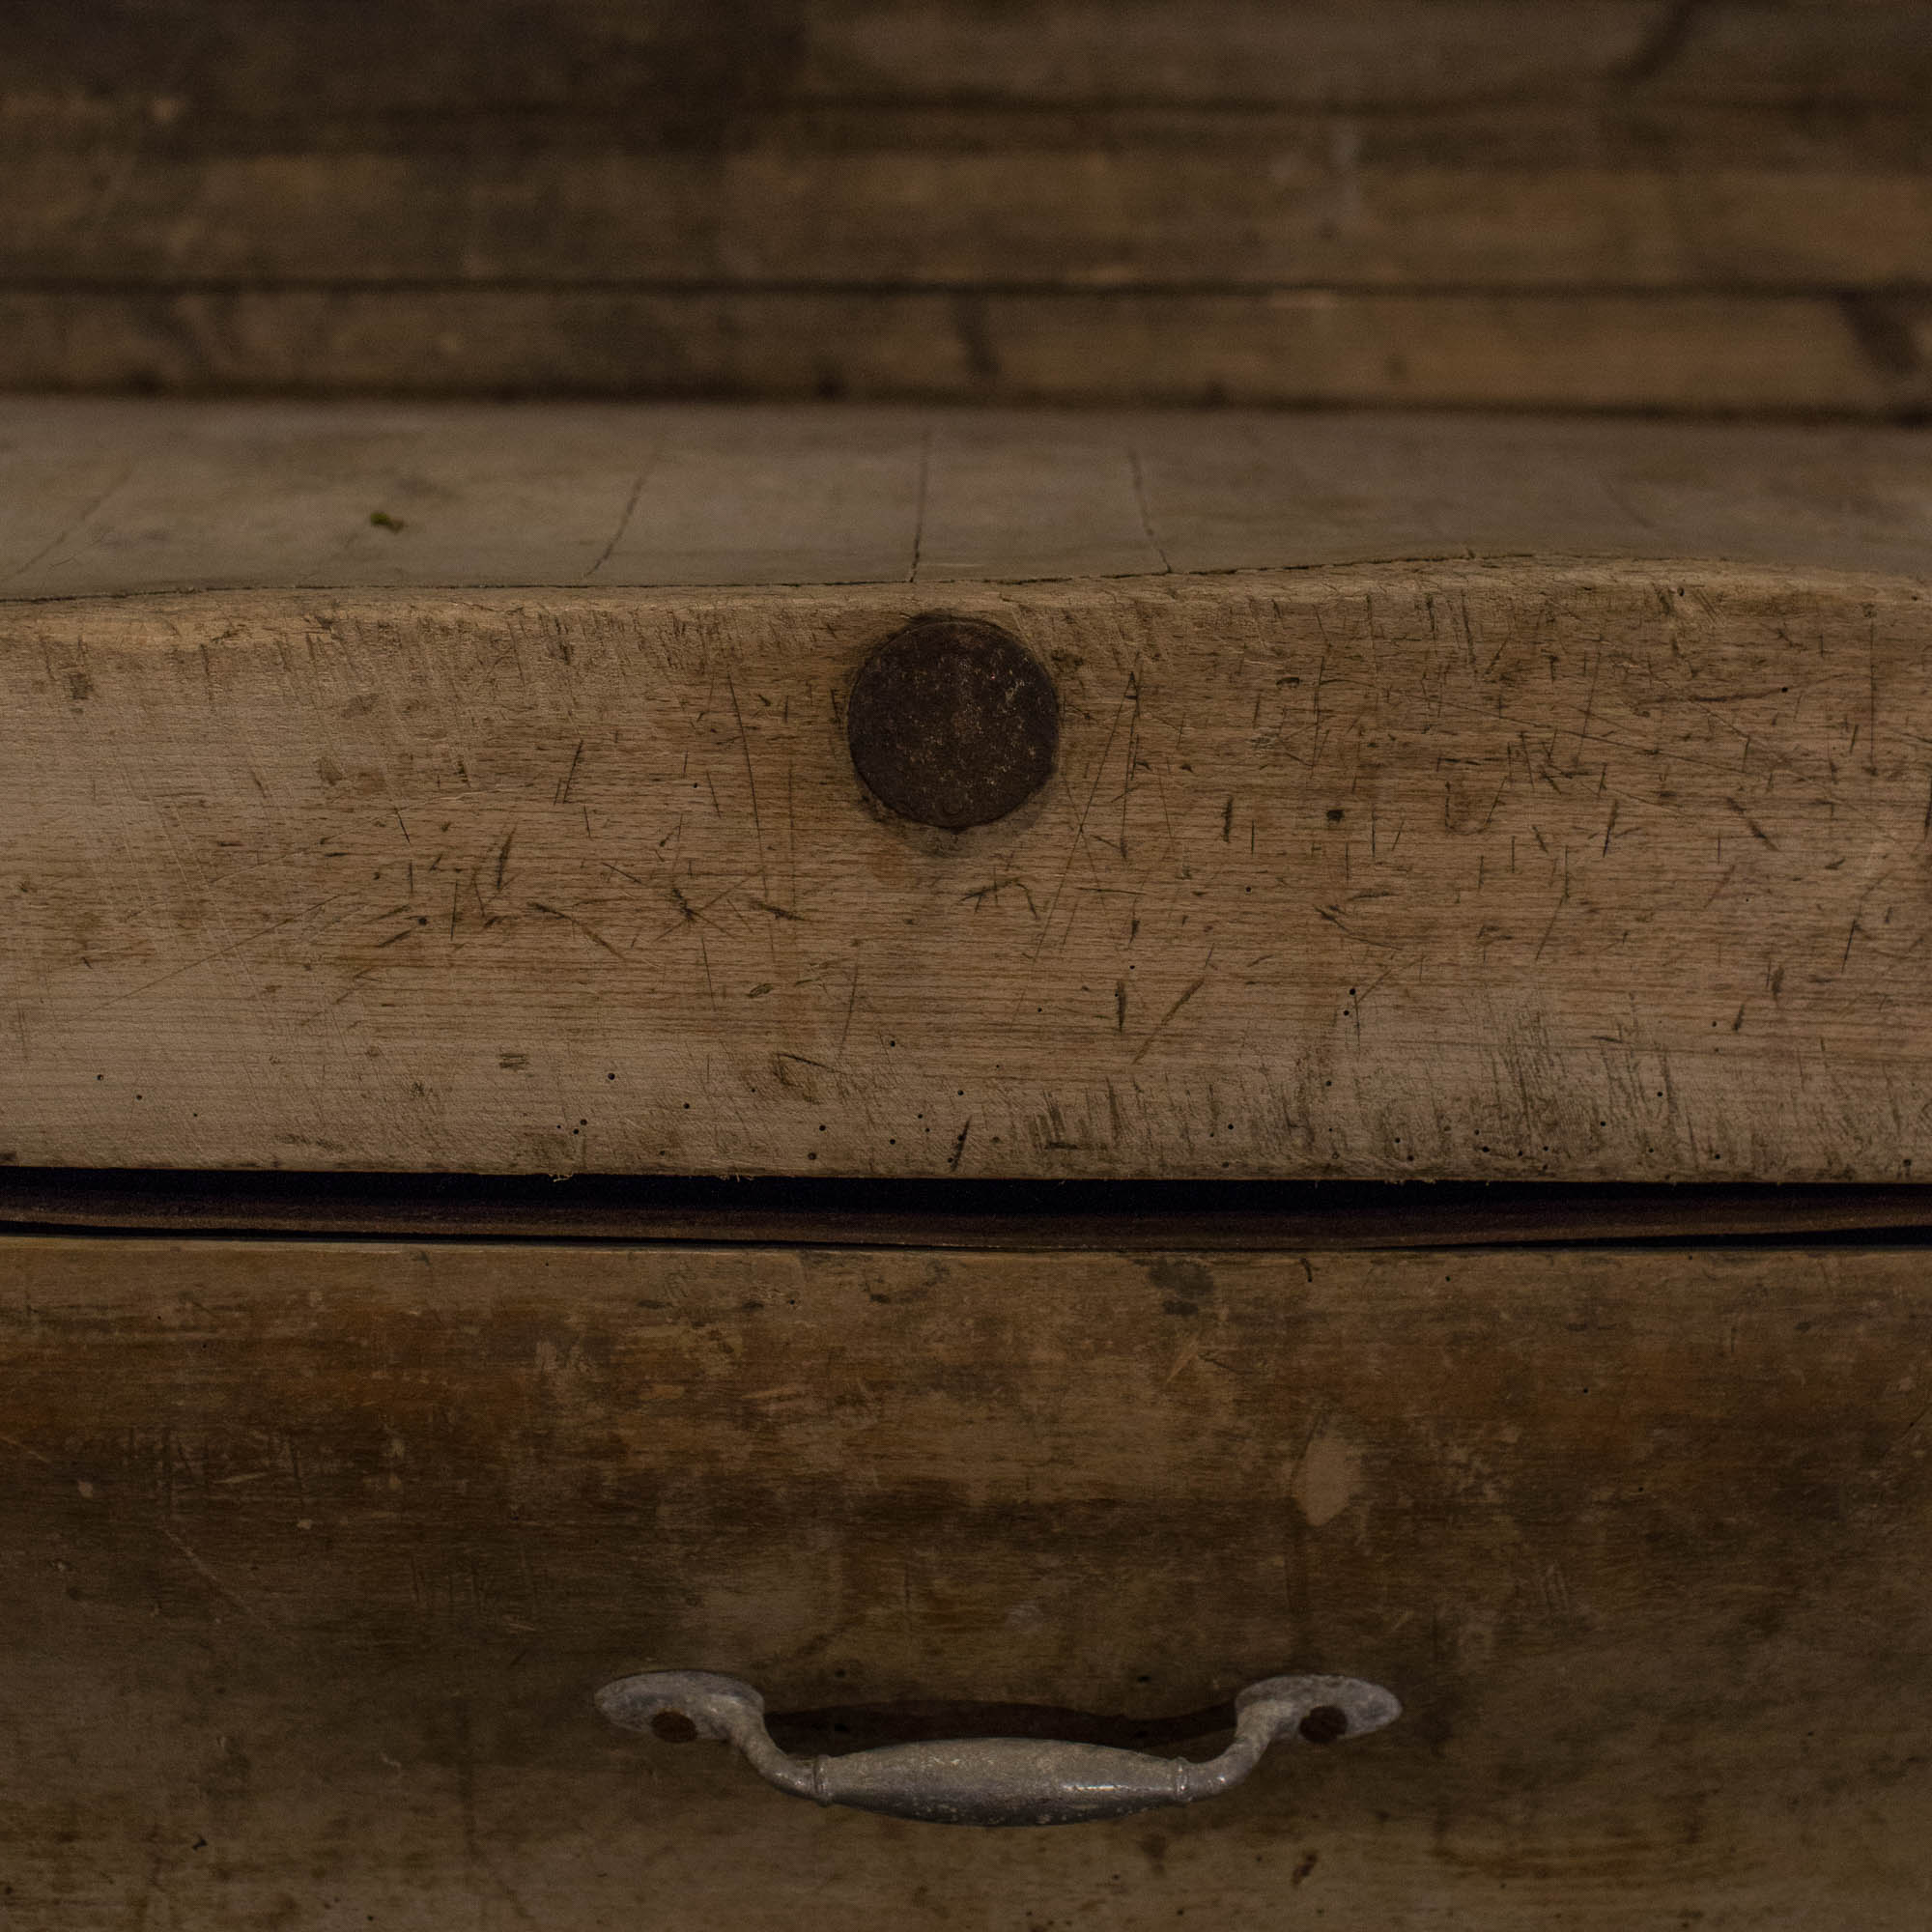bolt: (832, 602, 1070, 844)
screw: (1297, 1697, 1348, 1752), (639, 1707, 701, 1748)
